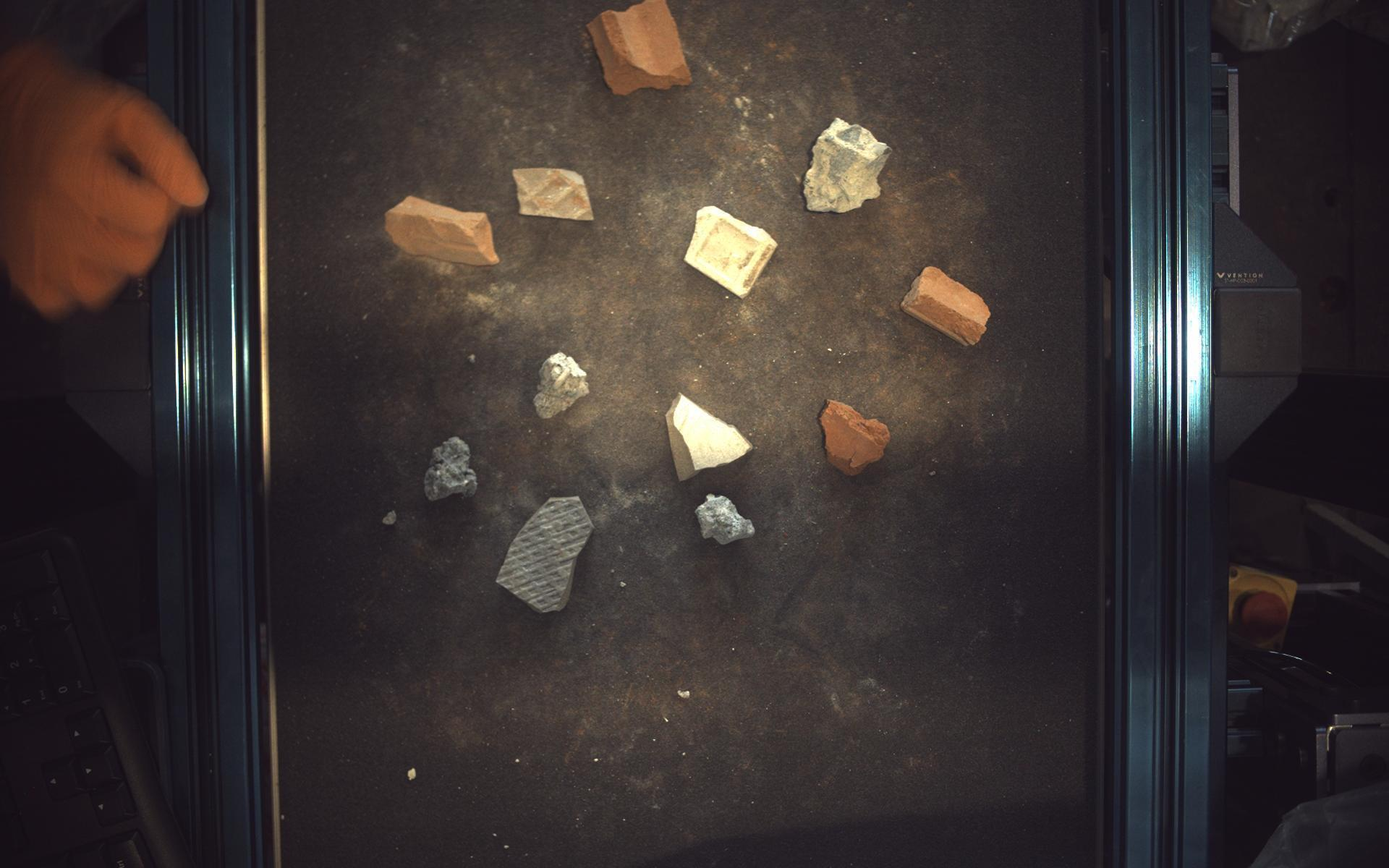brick: (588, 1, 692, 93), (386, 195, 499, 265), (903, 267, 992, 346), (821, 400, 892, 477)
concrete: (805, 116, 893, 212), (534, 352, 590, 419), (424, 438, 477, 501), (697, 495, 756, 545)
tile: (497, 497, 594, 613), (686, 205, 778, 297), (666, 393, 753, 481), (513, 167, 594, 219)
